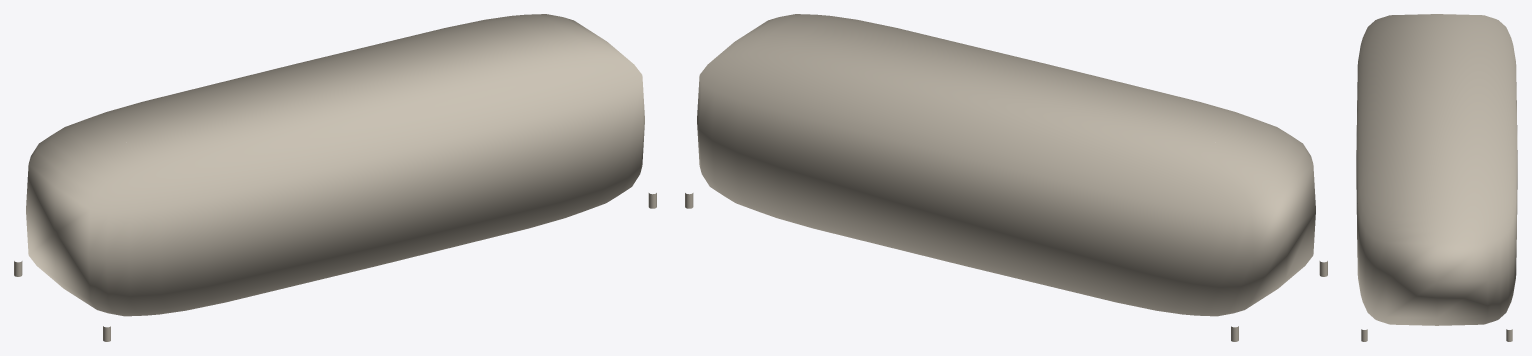
The model's file is ikea-vimle-59268237-g2-proxy.glb.
3 views of the same model, side by side, from view 1: azimuth 30°, elevation 25°; view 2: azimuth 150°, elevation 25°; view 3: azimuth 270°, elevation 25° (orthographic). The views are drawn at different scales.
Parts seen in each view (by area): view 1: proxy_body; view 2: proxy_body; view 3: proxy_body.
Boxes of the visible parts, x1,y1,x2,y2 form: proxy_body: (26,14,644,316); proxy_body: (697,14,1315,316); proxy_body: (1356,14,1517,325).
Size of the model in its own units: 3.22 by 0.83 by 0.98.
